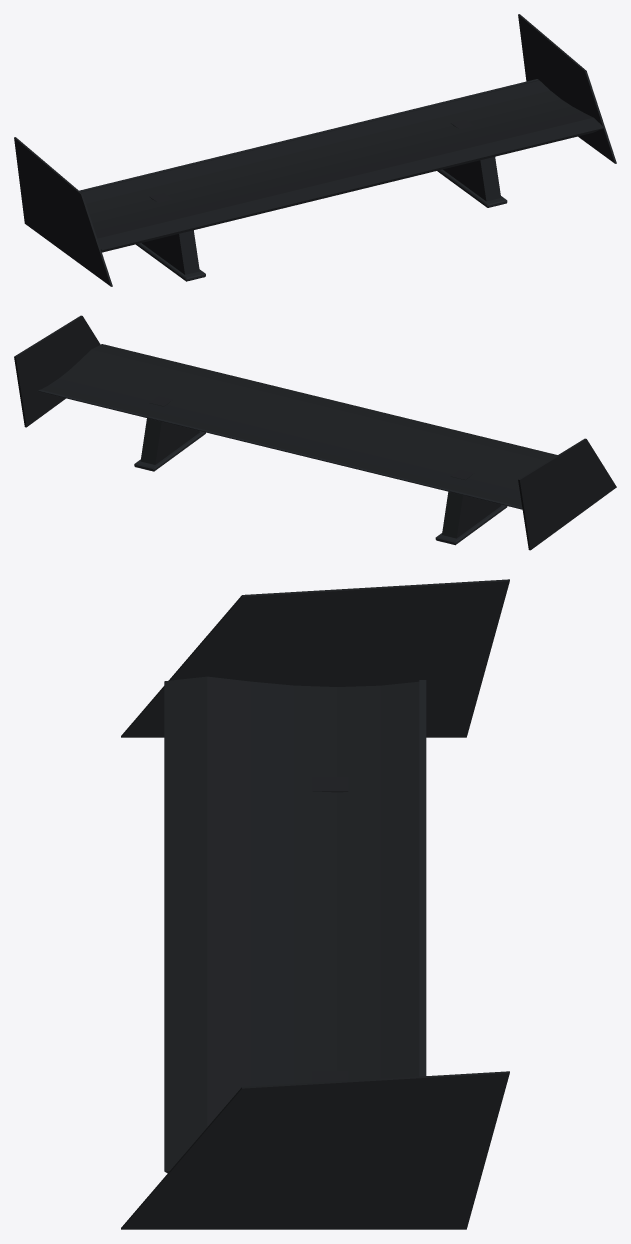
File: vortex_r.glb
3 views of the same model, one above another, from view 1: azimuth 30°, elevation 25°; view 2: azimuth 150°, elevation 25°; view 3: azimuth 270°, elevation 25° (orthographic). The views are drawn at different scales.
Parts seen in each view (by area): view 1: wing_element, model; view 2: wing_element, model; view 3: wing_element, model.
Part boxes in pixels (x1=…): wing_element: x1=14, y1=14, x2=616, y2=286; model: x1=136, y1=119, x2=507, y2=281; wing_element: x1=14, y1=315, x2=616, y2=550; model: x1=134, y1=396, x2=507, y2=545; wing_element: x1=121, y1=579, x2=509, y2=1229; model: x1=311, y1=777, x2=348, y2=1082.
Size of the model in its own units: 1.71 by 0.3512 by 0.57.
2 materials, 1 textured.
